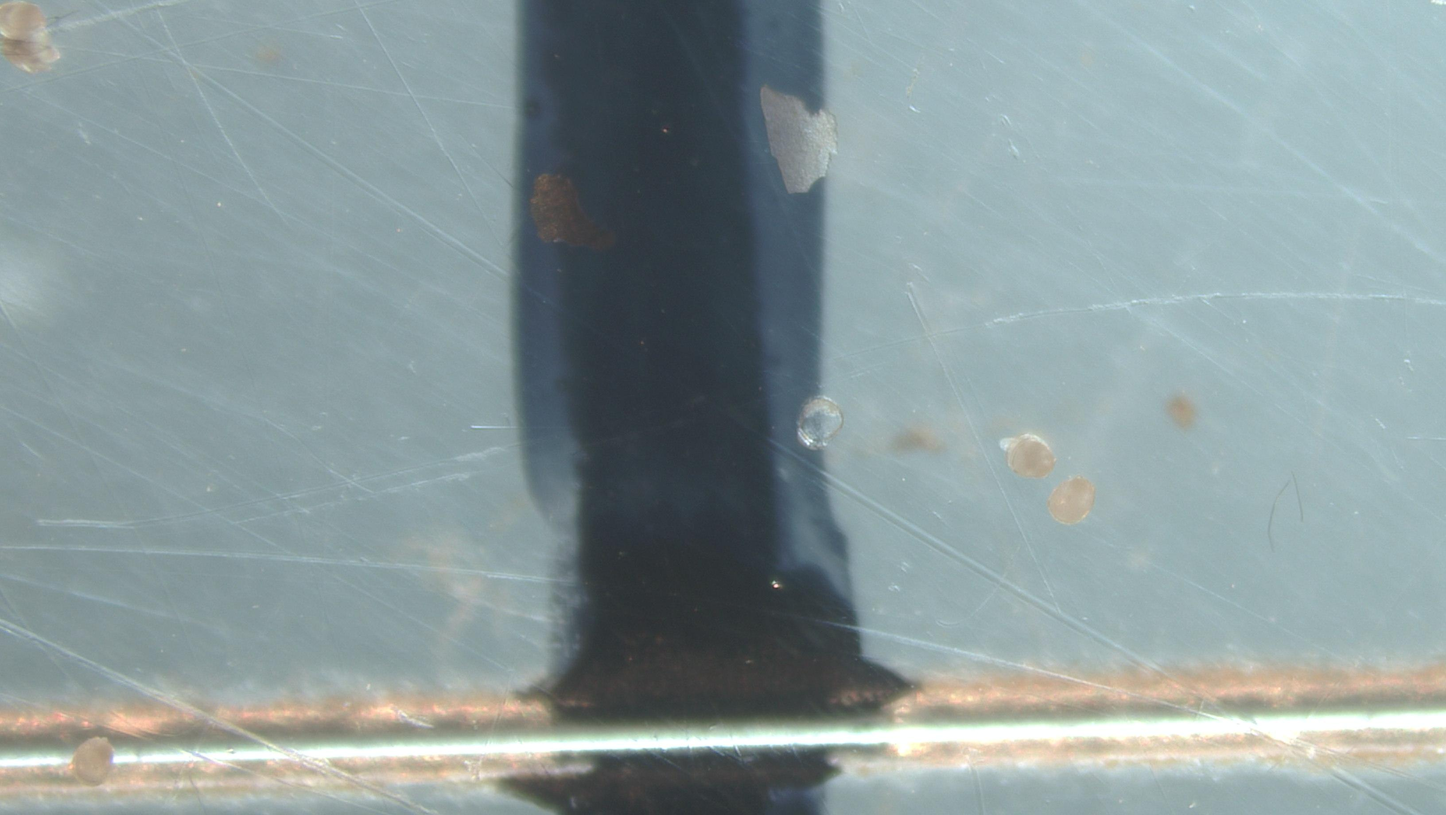dead: (797, 396, 844, 450)
live: (999, 433, 1057, 479), (1048, 476, 1096, 525)
